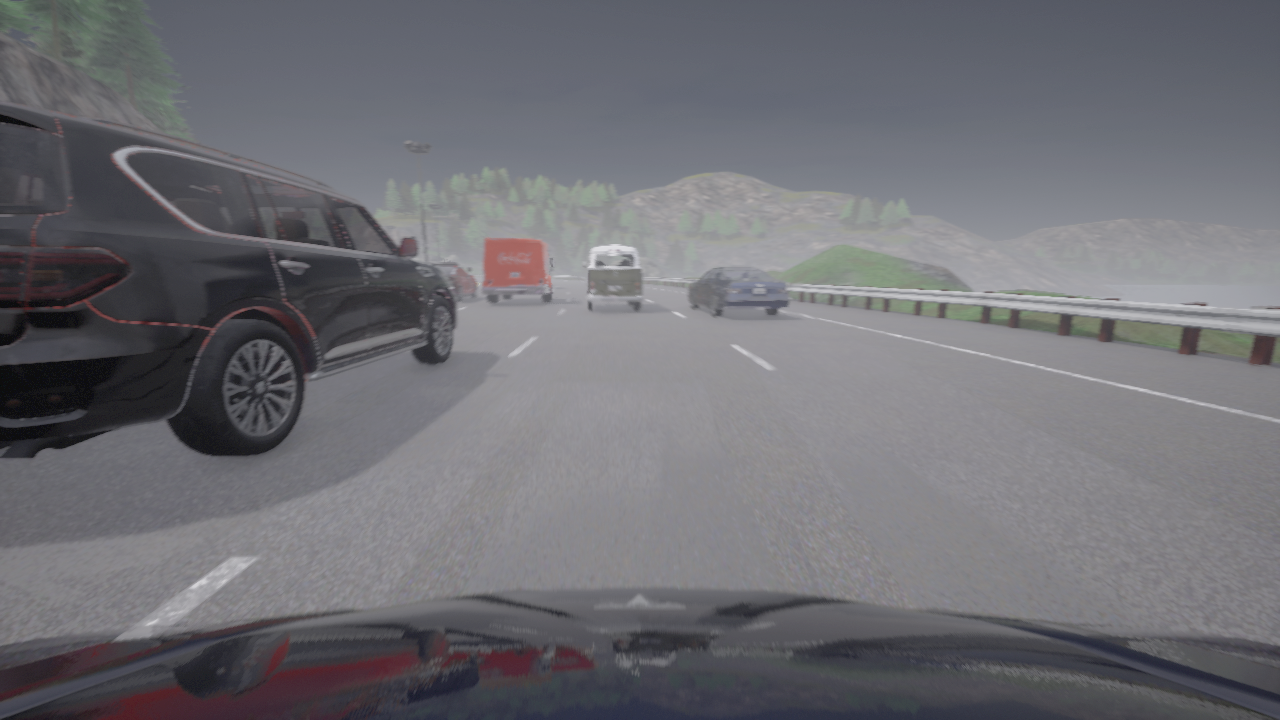cyclist: (0, 588, 1279, 719), (688, 266, 790, 316), (482, 239, 555, 303), (583, 245, 642, 310), (431, 263, 476, 301), (549, 267, 551, 275)
